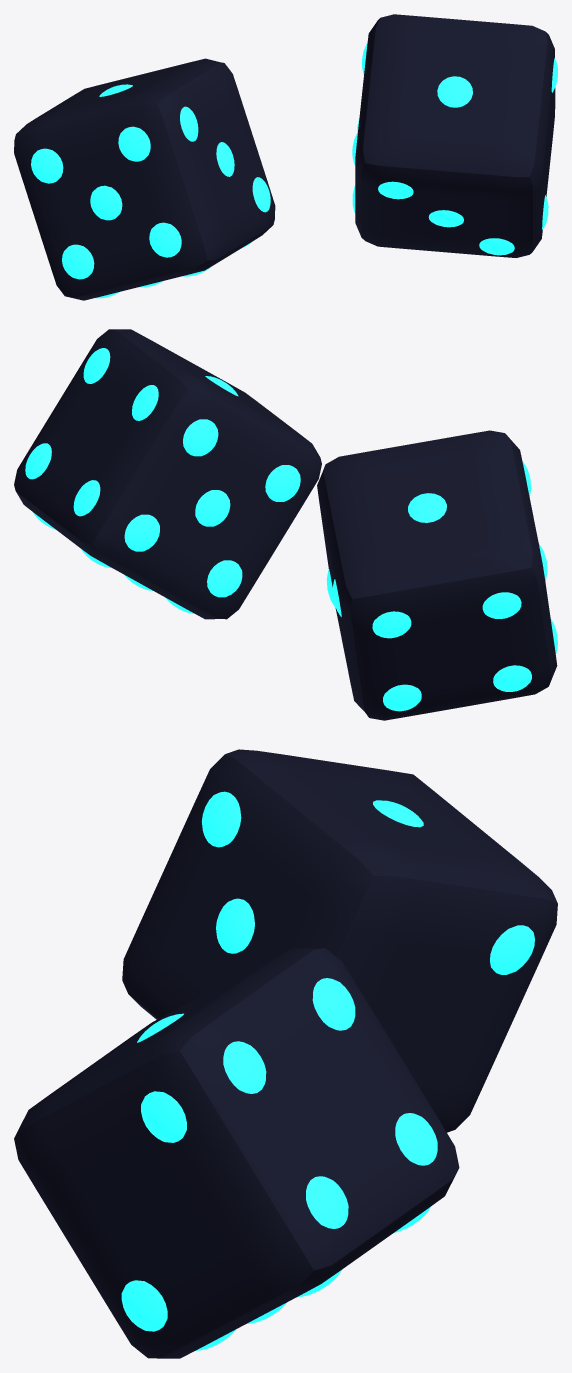
Rendered from dice_neon.glb.
3 views of the same model, one above another, from view 1: azimuth 30°, elevation 25°; view 2: azimuth 150°, elevation 25°; view 3: azimuth 270°, elevation 25° (orthographic). The views are drawn at different scales.
Visible parts, largest first — view 1: die_2_cube, die_1_cube, die_1_pip (×8), die_2_pip (×4); view 2: die_1_cube, die_2_cube, die_2_pip (×9), die_1_pip (×5); view 3: die_2_cube, die_1_cube, die_2_pip (×6), die_1_pip (×4).
Part boxes in pixels (box(x1,y1,x2,y2)): die_2_cube: box(355, 14, 555, 257); die_1_cube: box(14, 58, 275, 300); die_1_pip (×8): box(31, 106, 270, 279); die_2_pip (×4): box(378, 76, 514, 255); die_1_cube: box(317, 430, 557, 720); die_2_cube: box(14, 329, 321, 619); die_2_pip (×9): box(25, 348, 300, 597); die_1_pip (×5): box(372, 493, 531, 711); die_2_cube: box(14, 947, 459, 1358); die_1_cube: box(122, 749, 557, 1132); die_2_pip (×6): box(121, 978, 437, 1331); die_1_pip (×4): box(201, 791, 534, 974).
Bounding box in the file's own units: 0.0526 × 0.0225 × 0.0316.
